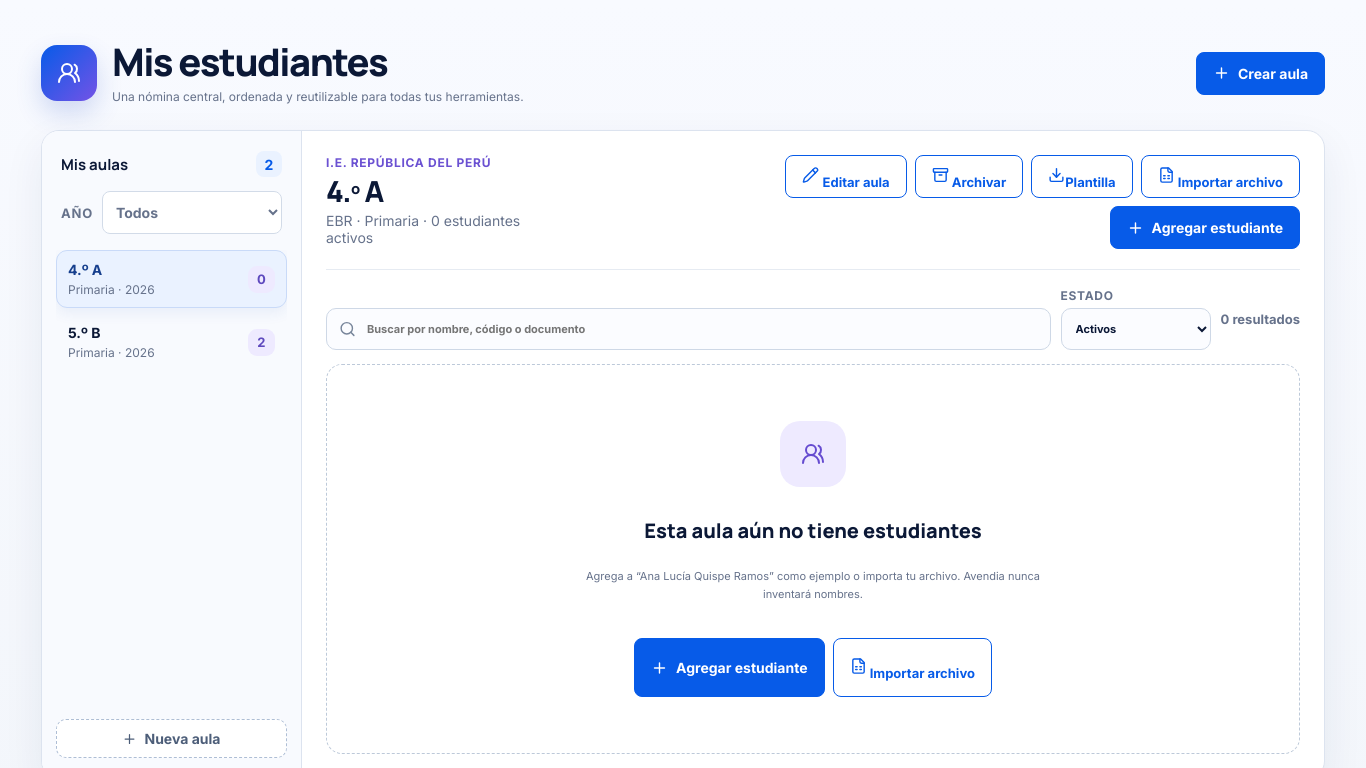
Scenario: RosterPage › ignores a late student response after switching classrooms
Check: the heading "4.º A" is shown, box [326,171,383,211]
Click the button "5.º B Primaria · 2026 2" at {"x": 172, "y": 342}, box [56,313,287,371]
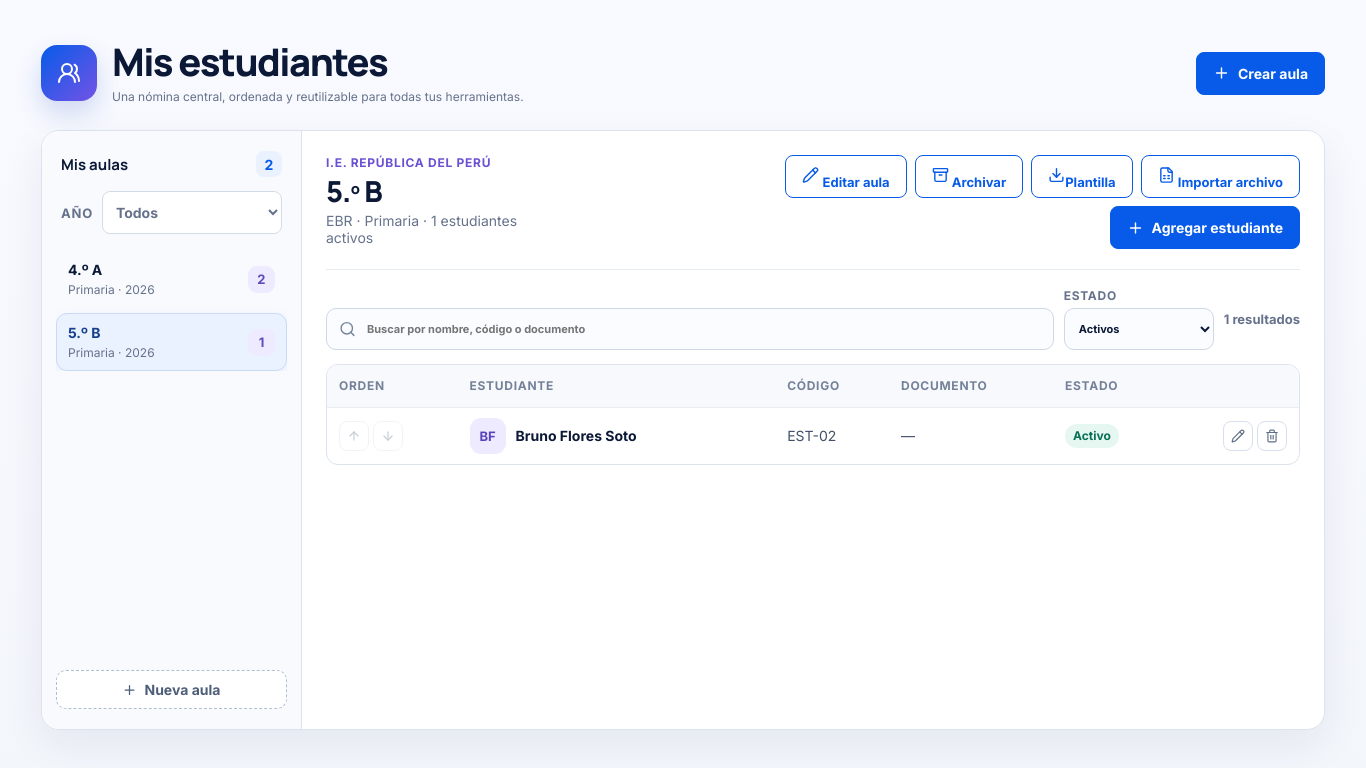
Check: the text "Bruno Flores Soto" is shown, box [516,427,637,444]
Check: the text "Ana Lucía Quispe Ramos" is gone
